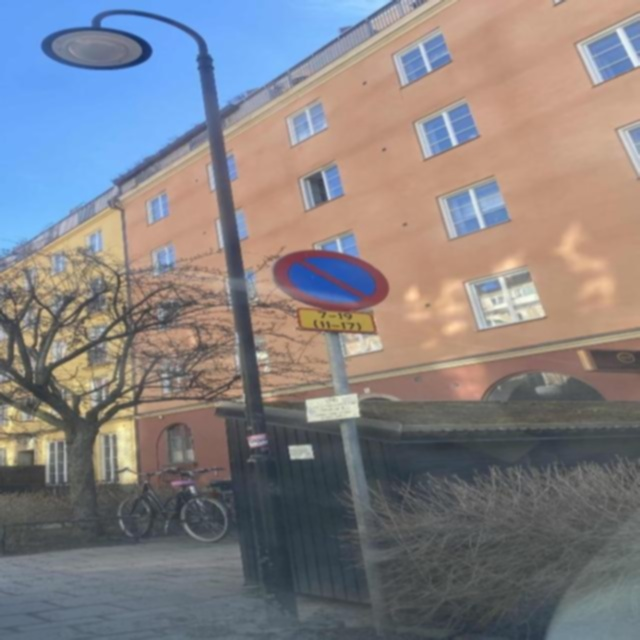lastplats: (272, 250, 389, 310)
